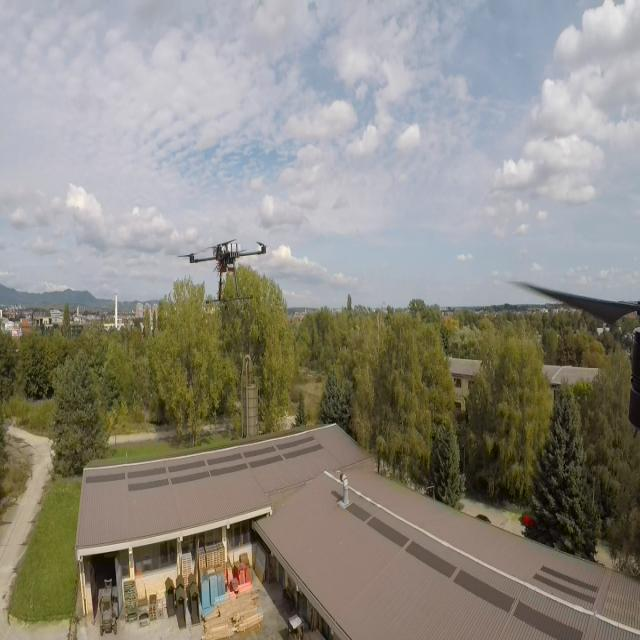UAV: (176, 234, 269, 308)
